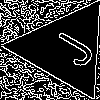J: (40, 23, 98, 70)
